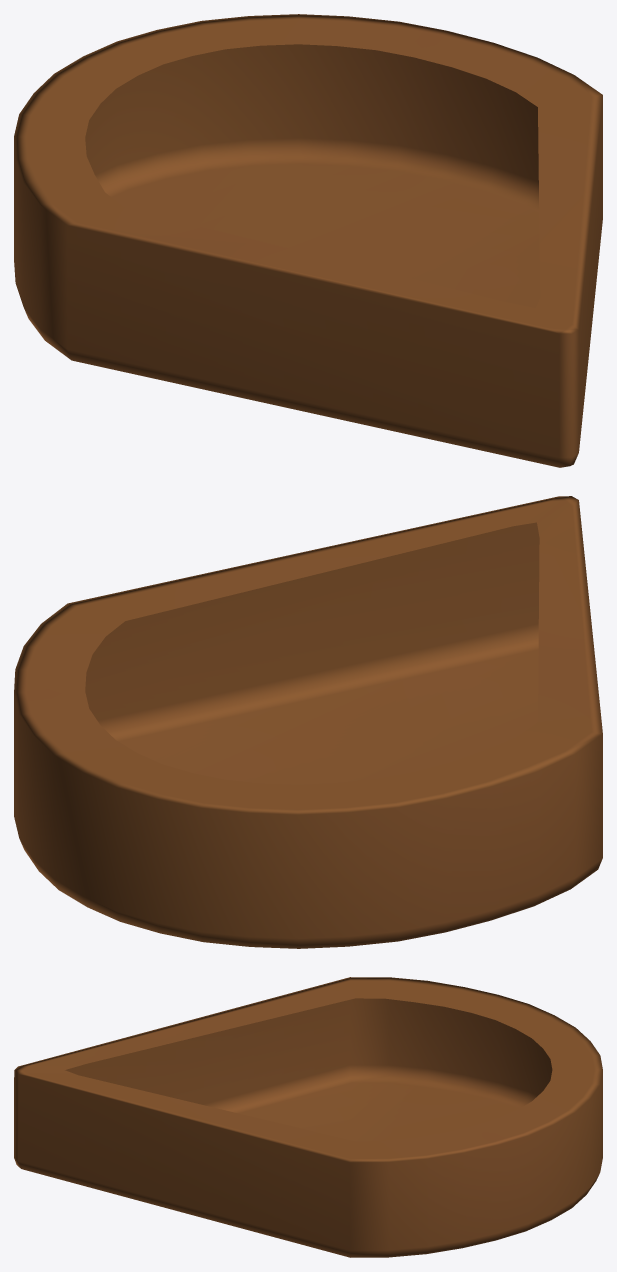
File: arrow.glb
3 renders of one model, top to bottom at view 1: azimuth 30°, elevation 25°; view 2: azimuth 150°, elevation 25°; view 3: azimuth 270°, elevation 25°, orthographic. The views are drawn at different scales.
Visible parts, largest first — view 1: polySurface1.001; view 2: polySurface1.001; view 3: polySurface1.001.
Part boxes in pixels (x1,y1,x2,y2): polySurface1.001: (14, 14, 602, 467); polySurface1.001: (14, 496, 602, 948); polySurface1.001: (14, 977, 602, 1257).
Bounding box in the file's own units: 0.963 × 0.2433 × 1.29.
Materials: 1 (1 with a texture image).
